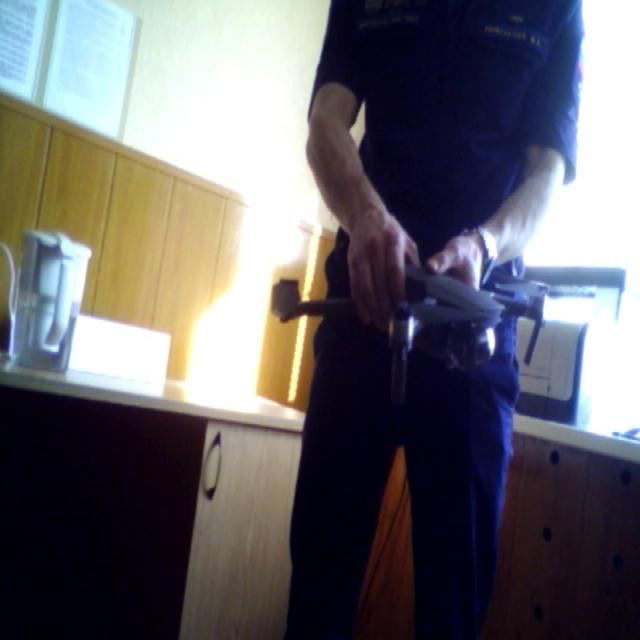drone: (262, 232, 588, 392)
